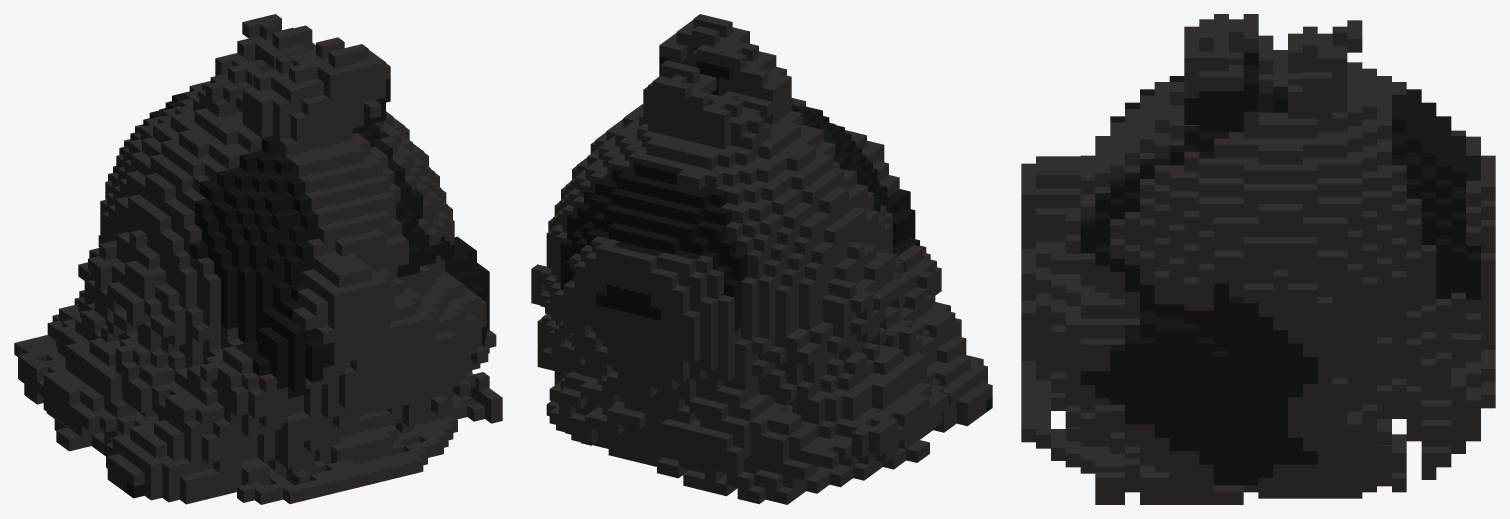
File: vuil fbx (1).fbx
3 renders of one model, left to right at view 1: azimuth 30°, elevation 25°; view 2: azimuth 150°, elevation 25°; view 3: azimuth 270°, elevation 25°, orthographic. The views are drawn at different scales.
Visible parts, largest first — view 1: Layer.049; view 2: Layer.049; view 3: Layer.049.
Part boxes in pixels (left/top/right/bottom): Layer.049: left=14, top=14, right=502, bottom=504; Layer.049: left=531, top=14, right=992, bottom=504; Layer.049: left=1021, top=14, right=1495, bottom=504.
Bounding box in the file's own units: 3200 × 3100 × 3200.
Materials: 1 (1 with a texture image).
